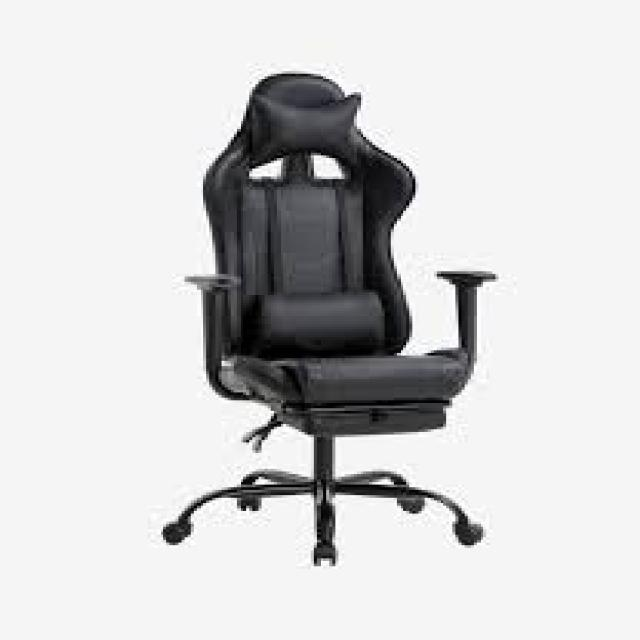chair: (81, 44, 571, 609)
